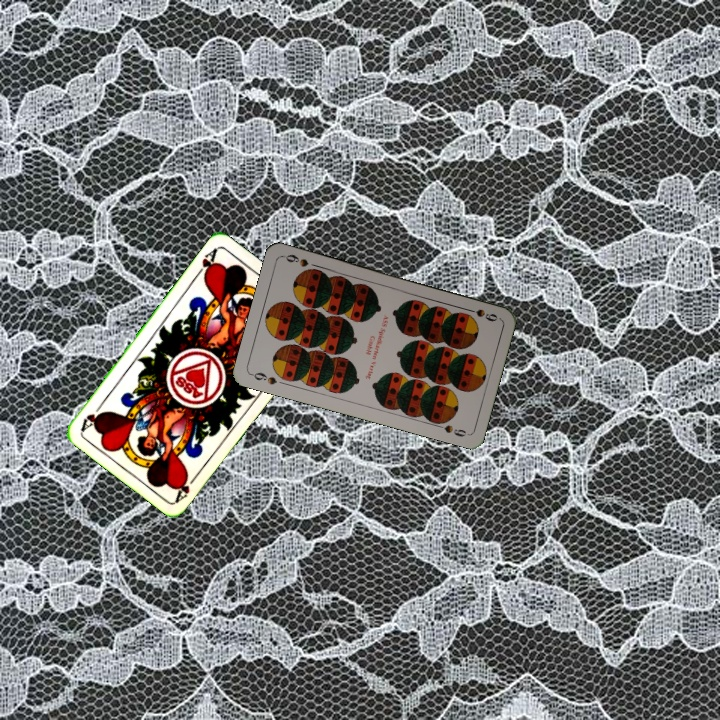HA: (171, 469, 202, 504), (191, 245, 220, 281)
S9: (461, 304, 500, 324), (247, 368, 279, 387)
